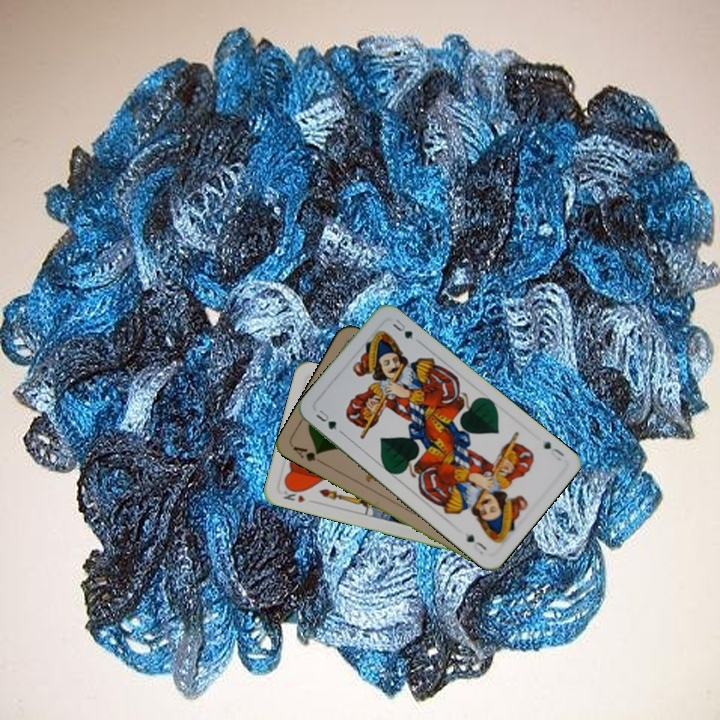GA: (289, 442, 327, 467)
GU: (312, 405, 340, 433), (540, 437, 567, 463)
HK: (279, 486, 307, 505)
